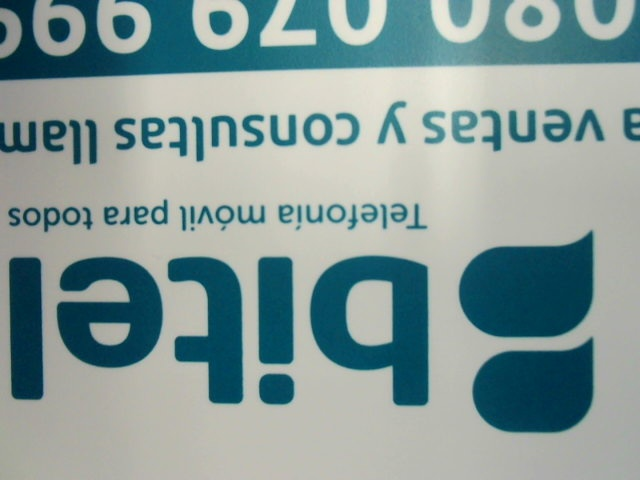BE_bitel: (5, 236, 611, 433)
